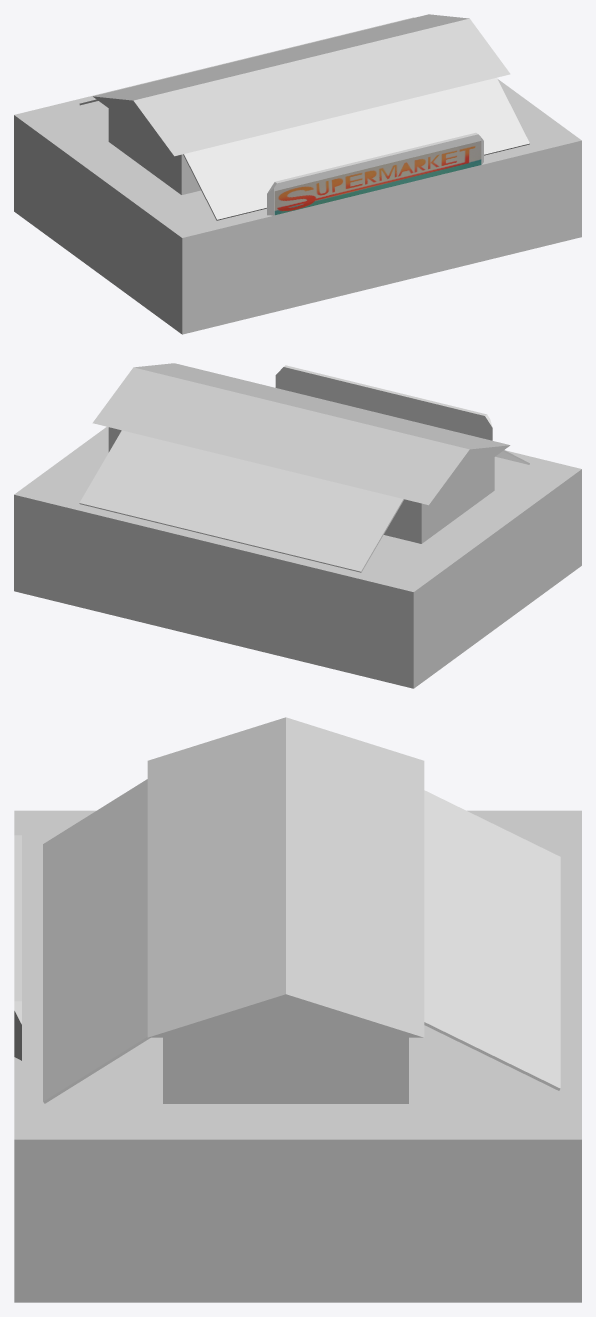
The model's file is supermarket.dae.
The picture shows the model from 3 angles, top to bottom: view 1: azimuth 30°, elevation 25°; view 2: azimuth 150°, elevation 25°; view 3: azimuth 270°, elevation 25°; orthographic projection. The views are drawn at different scales.
Visible parts, largest first — view 1: solid_Supermarket, solid_Supermarket.002, Brep, solid_cartel_supermarket_2_; view 2: solid_Supermarket, solid_Supermarket.001, solid_cartel_supermarket_2_; view 3: solid_Supermarket, solid_Supermarket.001, solid_Supermarket.002, solid_cartel_supermarket_2_.
Part boxes in pixels (x1,y1,x2,y2): solid_Supermarket: (14,14,581,334); solid_Supermarket.002: (183,77,529,220); Brep: (274,141,481,215); solid_cartel_supermarket_2_: (267,132,483,215); solid_Supermarket: (14,363,581,688); solid_Supermarket.001: (79,430,403,572); solid_cartel_supermarket_2_: (275,365,492,440); solid_Supermarket: (14,717,581,1302); solid_Supermarket.001: (424,790,560,1090); solid_Supermarket.002: (43,779,150,1103); solid_cartel_supermarket_2_: (14,835,21,1060).
Bounding box in the file's own units: 1.02 × 0.7455 × 0.409.
5 materials, 1 textured.
